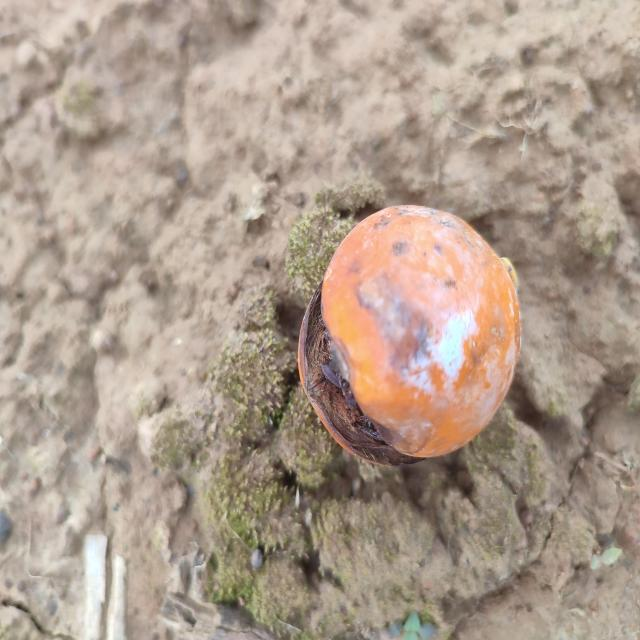damaged: (298, 205, 522, 467)
